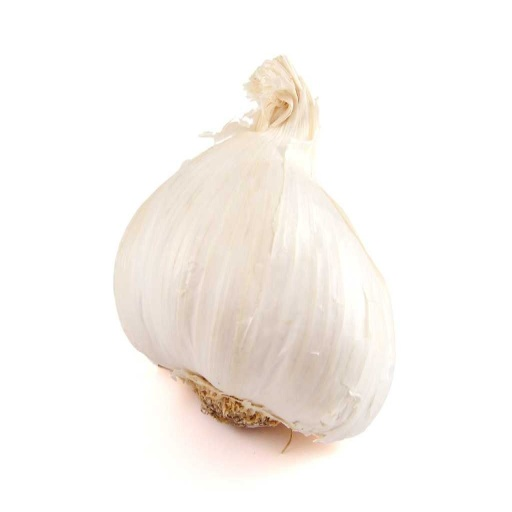Knoblauch: (113, 54, 397, 453)
